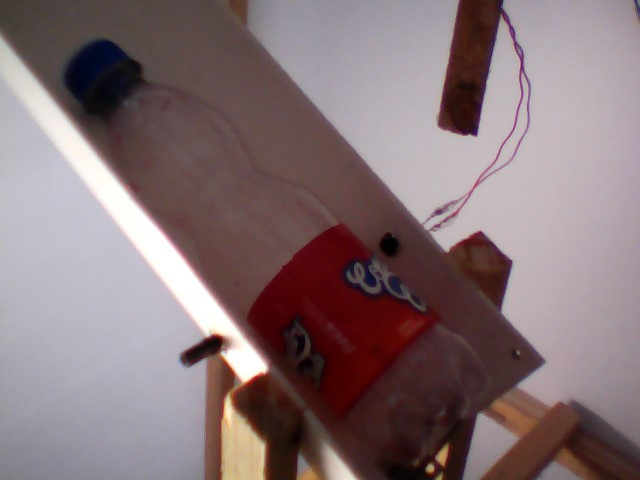plastico: (52, 35, 499, 480)
